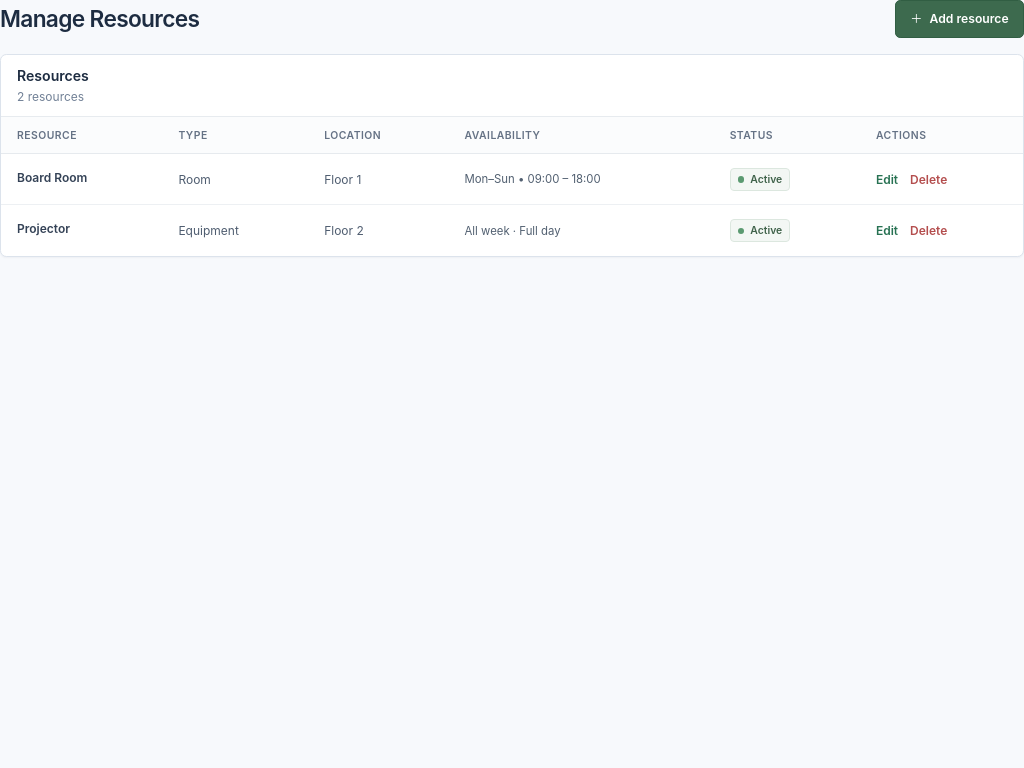
Test: AdminResourcesPage › confirms permanent resource deletion and its cascading reservation impact
Click the button "Delete" in the row of "Board Room": (929, 179) [910, 172, 947, 187]
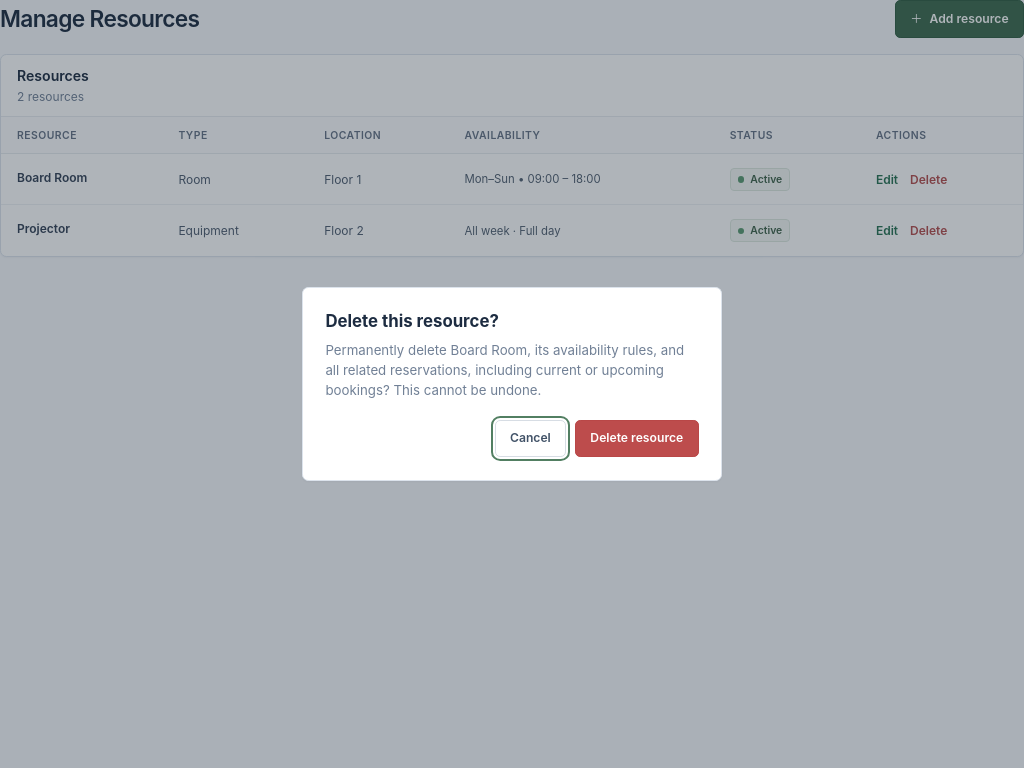
Expected: the text "all related reservations, including current or upcoming bookings" is shown, [325, 342, 684, 398]
Click the button "Delete resource": (637, 439) [575, 420, 699, 458]
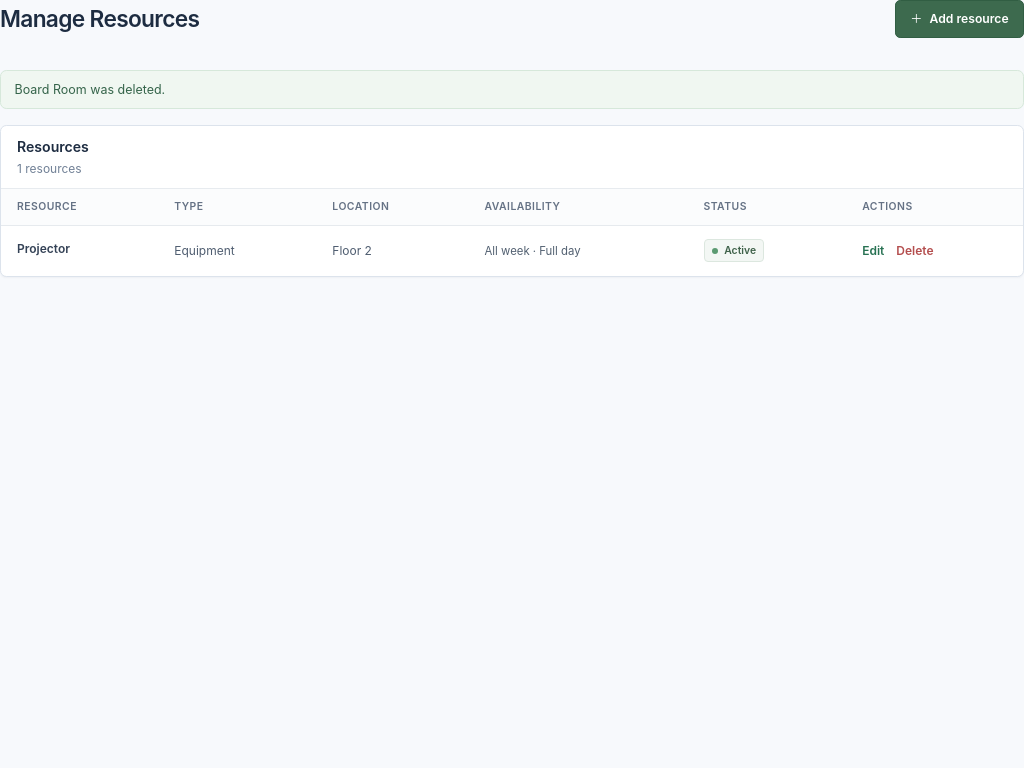
Expected: the text "Projector" is shown, [17, 241, 70, 256]
Expected: the message reads "Board Room was deleted.", [15, 82, 165, 97]
